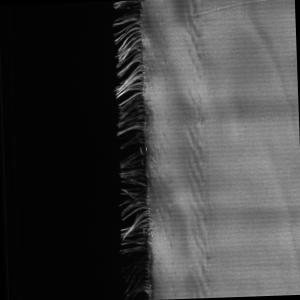Damage: (104, 1, 160, 300)
Wrinkle: (235, 1, 300, 282)
